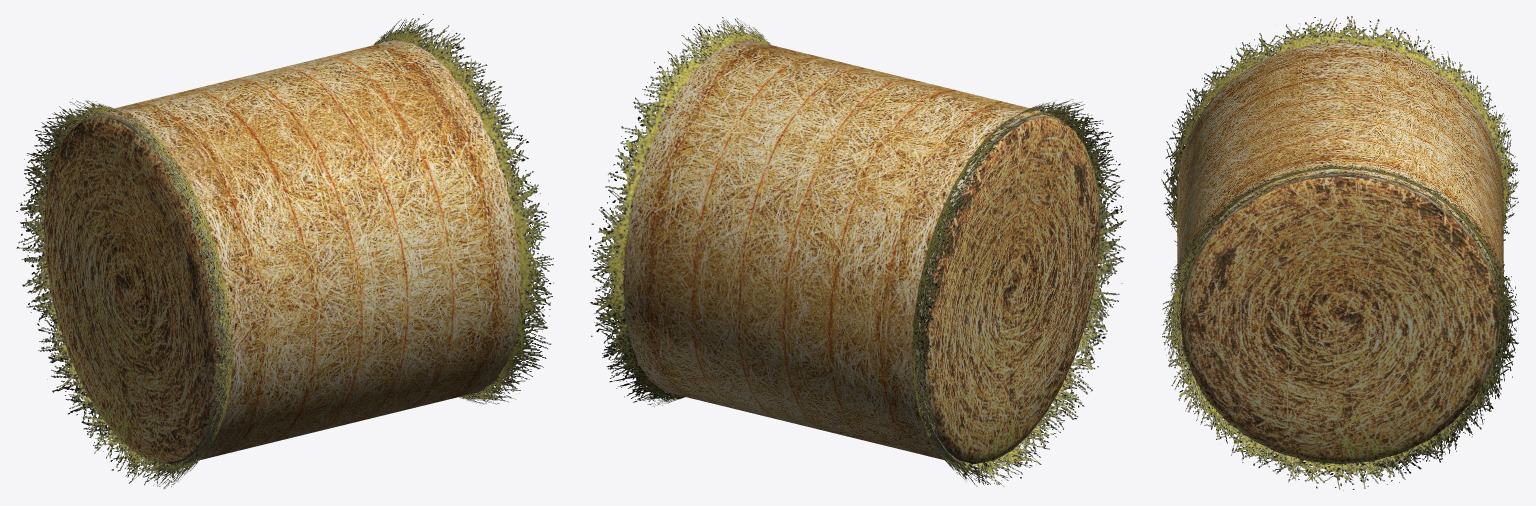
Rendered from haybale.fbx.
The picture shows the model from 3 angles, left to right: view 1: azimuth 30°, elevation 25°; view 2: azimuth 150°, elevation 25°; view 3: azimuth 270°, elevation 25°; orthographic projection. The views are drawn at different scales.
Parts seen in each view (by area): view 1: Cylinder.005; view 2: Cylinder.005; view 3: Cylinder.005.
Part boxes in pixels (box(x1,y1,x2,y2)): Cylinder.005: box(16, 14, 553, 488); Cylinder.005: box(589, 17, 1126, 486); Cylinder.005: box(1161, 16, 1519, 490).
Size of the model in its own units: 217 by 222 by 222.
Materials: 1 (1 with a texture image).
